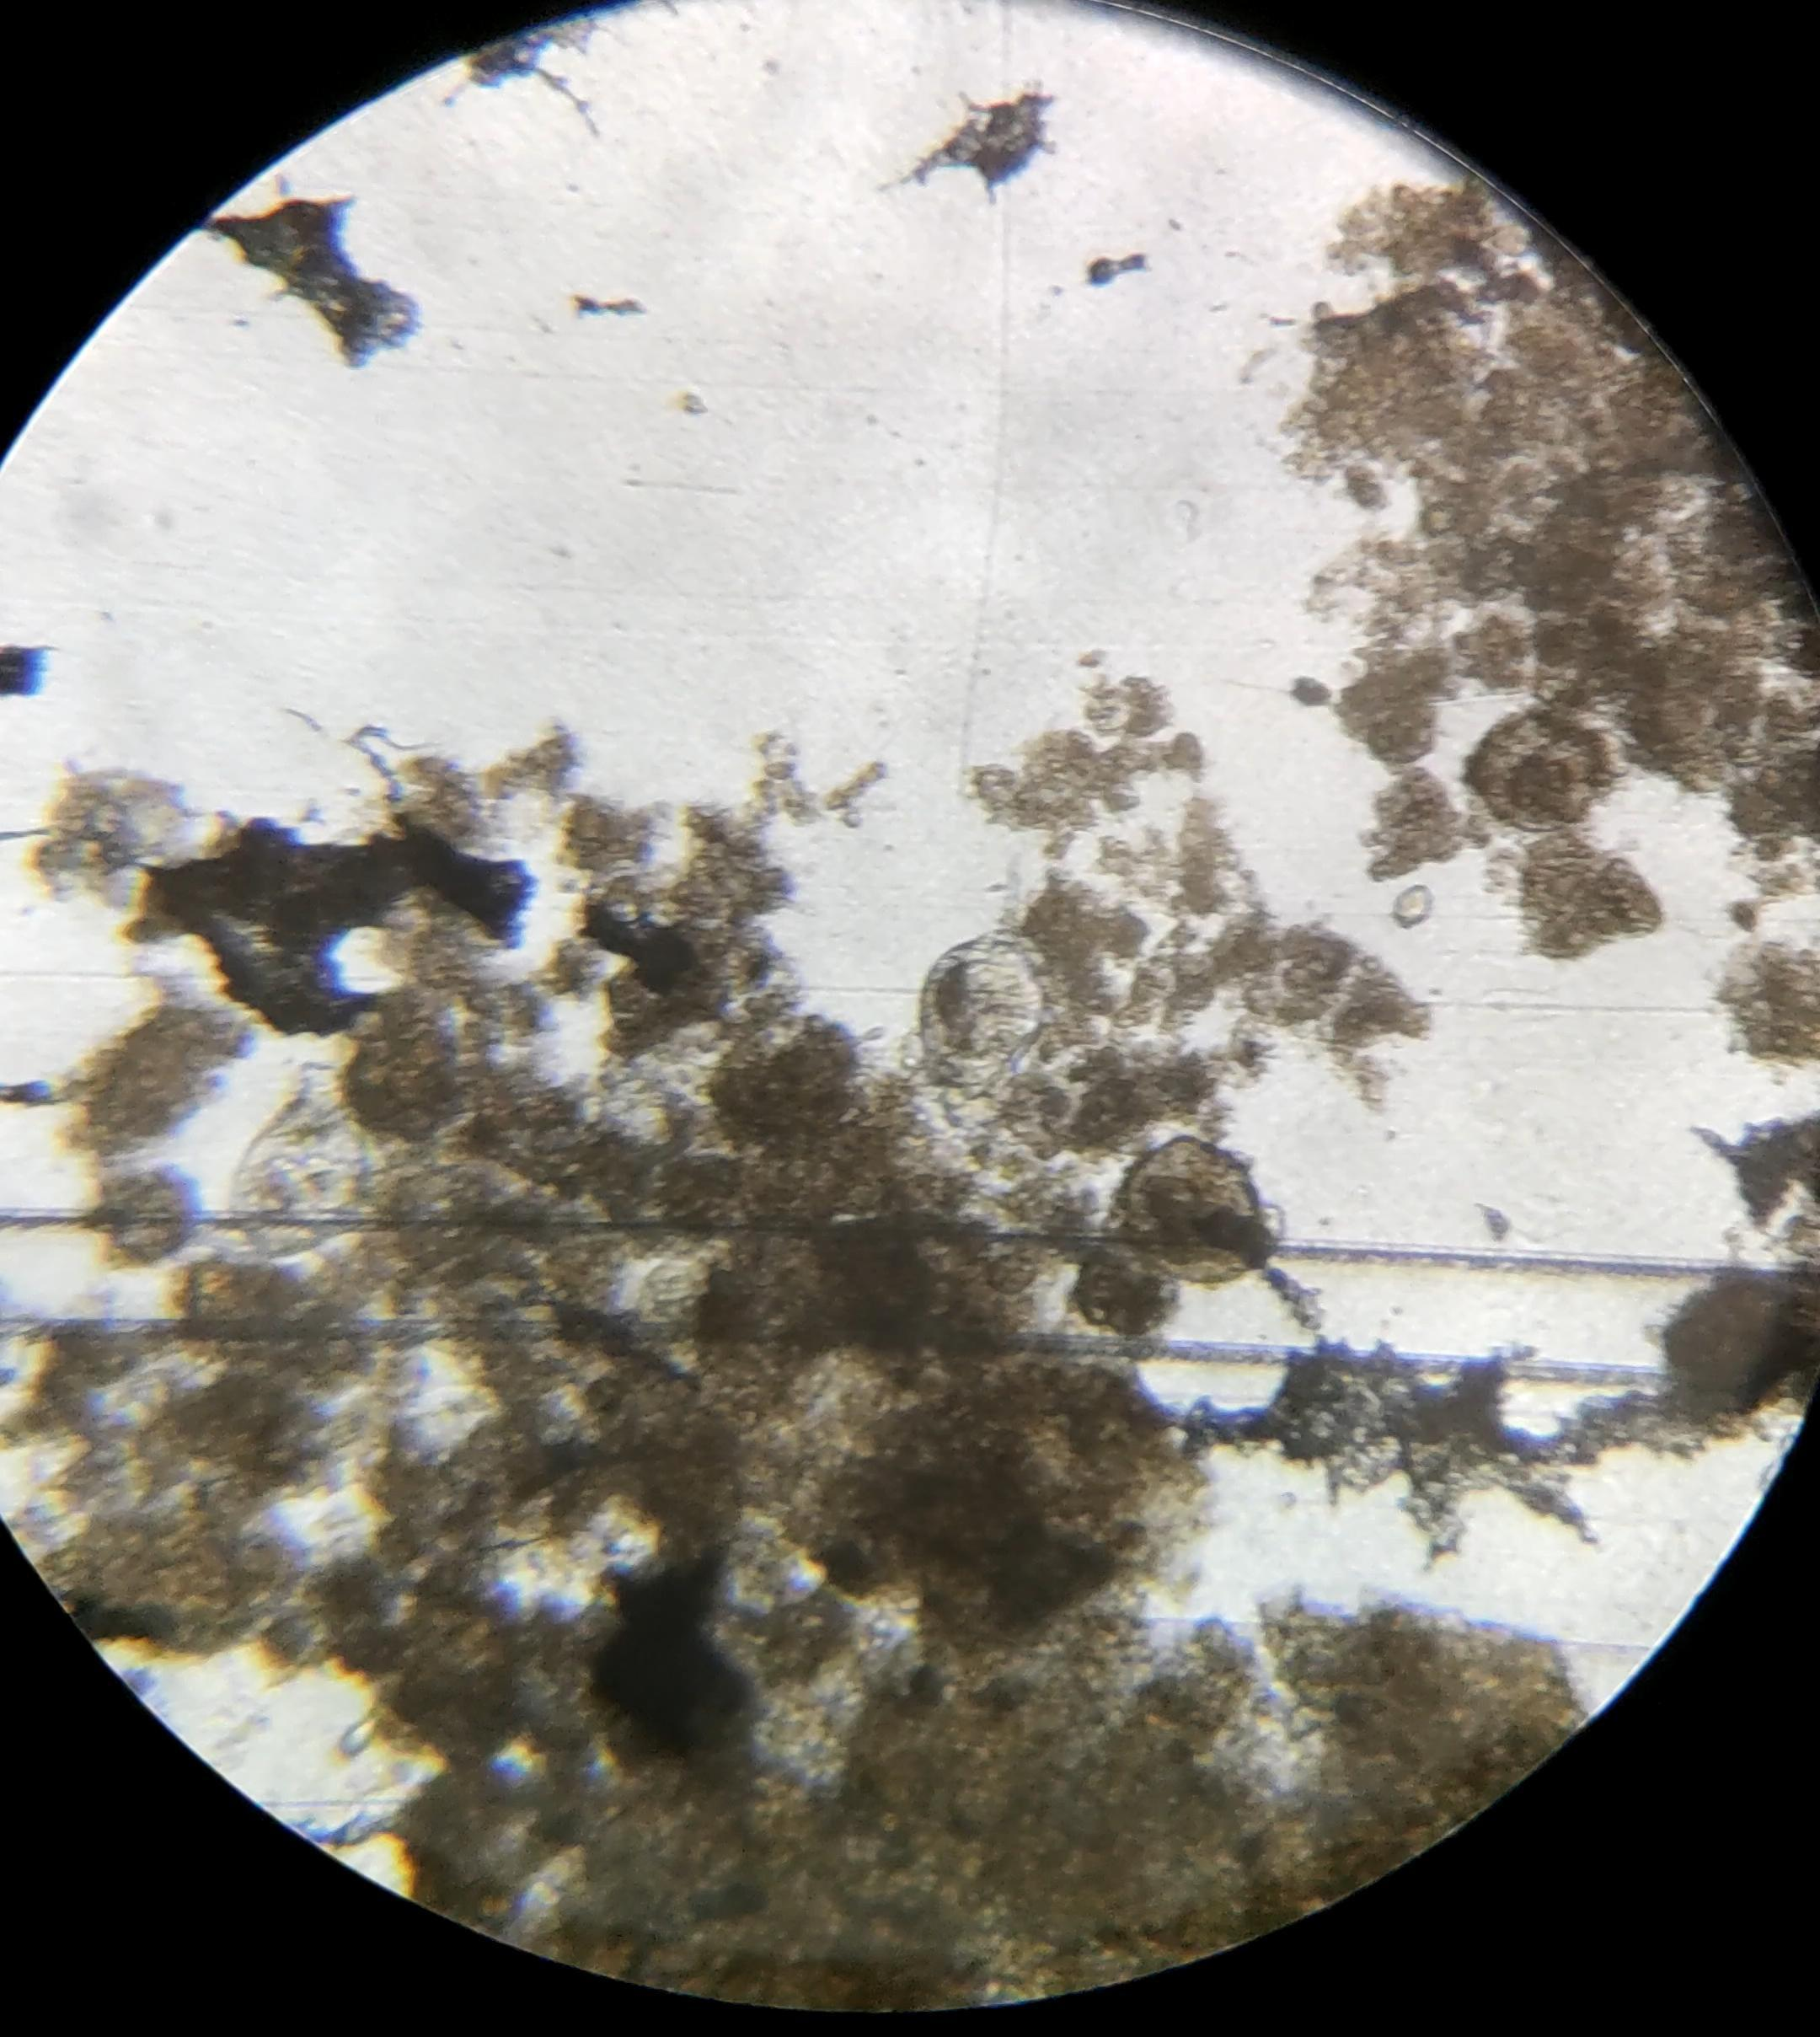Arcella: (1126, 1139, 1260, 1283), (1479, 712, 1602, 831)
Mo: (202, 1058, 367, 1299), (908, 856, 1035, 1098)
